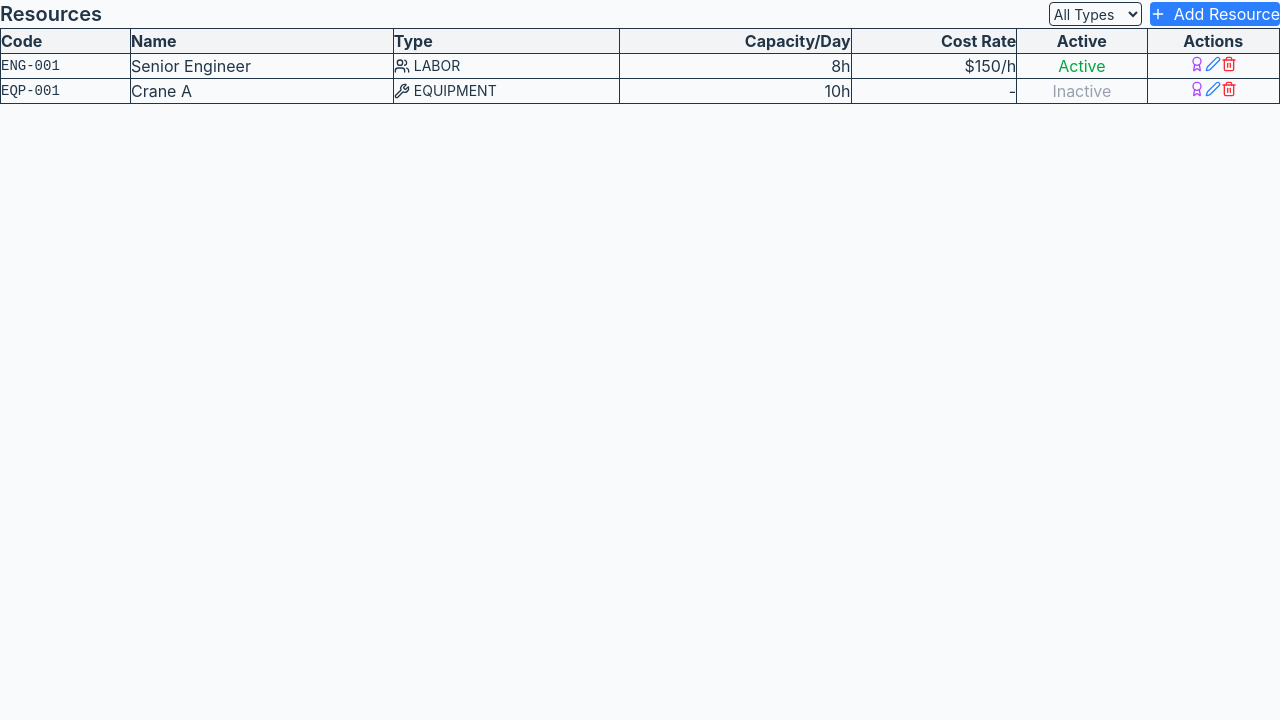
ResourceList › opens edit form when edit button is clicked
Expected: the text "ENG-001" is shown, [0, 54, 130, 78]
Click the button titled "Edit resource": (1213, 64) [1205, 56, 1221, 72]
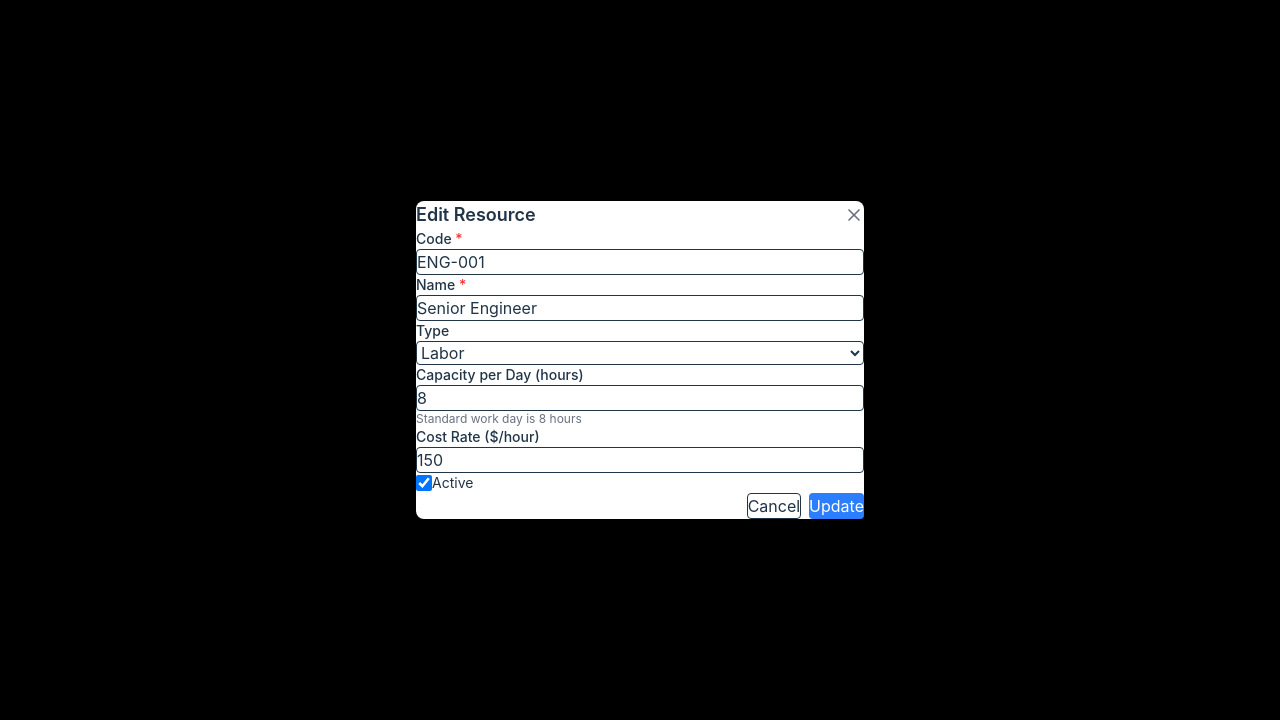
Now the heading "Edit Resource" is shown, box [416, 201, 536, 229]
